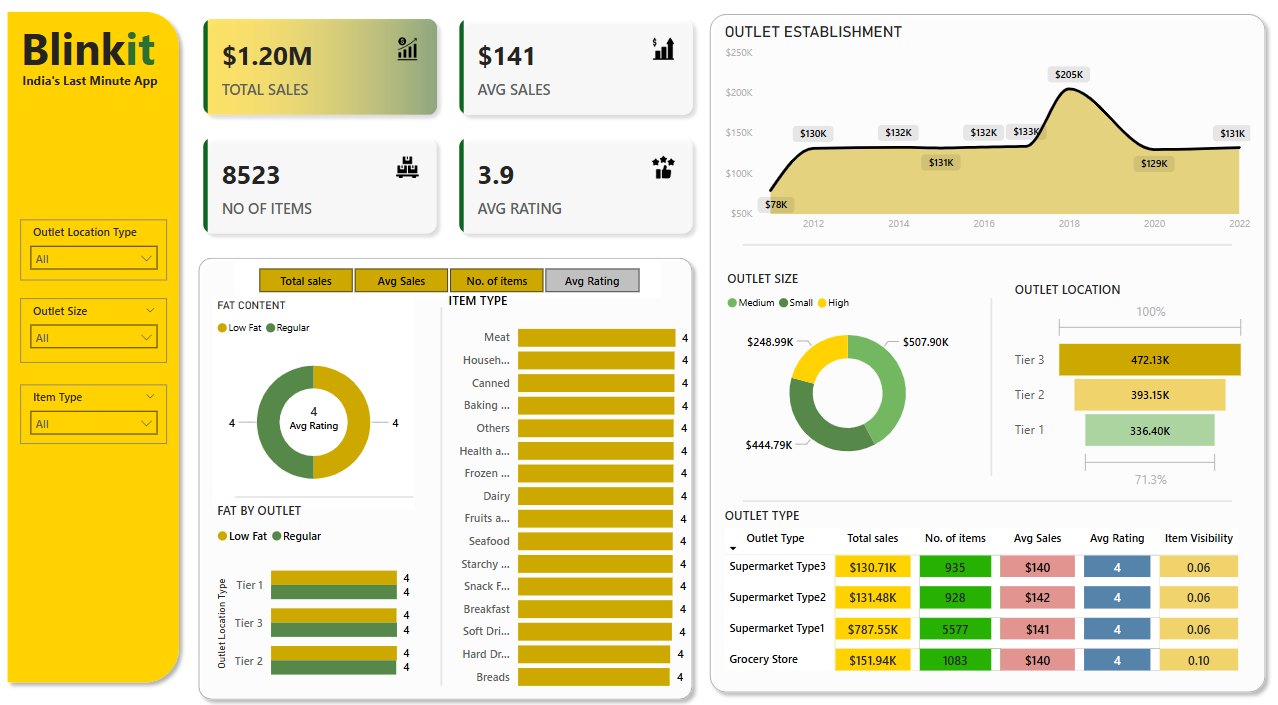

The page's visual inventory and layout, read from the dashboard file:
{"tool":"powerbi","page":{"name":"Page 1","canvas":[1400,800],"ordinal":0},"visuals":[{"type":"shape","box":[0,17.1,205.3,750],"z":0},{"type":"textbox","box":[14.5,28.9,176.3,73.7],"z":1000},{"type":"textbox","box":[21.1,86.8,169.7,30.3],"z":2000},{"type":"cardVisual","fields":{"Data":["BlinkIT Grocery Data.Total sales","BlinkIT Grocery Data.Avg Sales","BlinkIT Grocery Data.No. of items","BlinkIT Grocery Data.Avg Rating"]},"box":[205.3,17.1,569.7,269.7],"z":3000},{"type":"shape","box":[209.2,286.8,556.6,500],"z":4000},{"type":"donutChart","title":"FAT CONTENT","fields":{"Y":["BlinkIT Grocery Data.Avg Rating"],"Category":["BlinkIT Grocery Data.Item Fat Content"]},"box":[233.3,340,220,230],"z":5000},{"type":"cardVisual","fields":{"Data":["BlinkIT Grocery Data.Avg Rating"]},"box":[290,436.7,106.7,61.7],"z":6000},{"type":"slicer","fields":{"Values":["Metrics.Metrics"]},"box":[257.9,300,464.5,39.5],"z":7000},{"type":"clusteredBarChart","title":"FAT BY OUTLET ","fields":{"Y":["BlinkIT Grocery Data.Avg Rating"],"Category":["BlinkIT Grocery Data.Outlet Location Type"],"Series":["BlinkIT Grocery Data.Item Fat Content"]},"box":[233.3,561.7,220,211.7],"z":8000},{"type":"shape","box":[257.9,539.5,194.7,32.9],"z":9000},{"type":"shape","box":[460.5,348.7,43.4,413.2],"z":10000},{"type":"barChart","title":"ITEM TYPE","fields":{"Y":["BlinkIT Grocery Data.Avg Rating"],"Category":["BlinkIT Grocery Data.Item Type"]},"box":[485,333.3,271.7,445],"z":11000},{"type":"shape","box":[766,20,624,758],"z":12000},{"type":"lineChart","title":"OUTLET ESTABLISHMENT","fields":{"Category":["BlinkIT Grocery Data.Outlet Establishment Year"],"Y":["BlinkIT Grocery Data.Total sales"]},"box":[786.7,38.3,583.3,236.7],"z":13000},{"type":"shape","box":[811.7,275,533.3,11.7],"z":14000},{"type":"donutChart","title":"OUTLET SIZE","fields":{"Y":["BlinkIT Grocery Data.Total sales"],"Category":["BlinkIT Grocery Data.Outlet Size"]},"box":[790,308.3,273.3,225],"z":15000},{"type":"shape","box":[1060,340,43.3,193.3],"z":16000},{"type":"funnel","title":"OUTLET LOCATION","fields":{"Category":["BlinkIT Grocery Data.Outlet Location Type"],"Y":["Sum(BlinkIT Grocery Data.Sales)"]},"box":[1103.3,320,261.7,231.7],"z":17000},{"type":"shape","box":[811.7,555,533.3,11.7],"z":18000},{"type":"pivotTable","title":"OUTLET TYPE","fields":{"Rows":["BlinkIT Grocery Data.Outlet Type"],"Values":["BlinkIT Grocery Data.Total sales","BlinkIT Grocery Data.No. of items","BlinkIT Grocery Data.Avg Sales","BlinkIT Grocery Data.Avg Rating","Avg(BlinkIT Grocery Data.Item Visibility)"]},"box":[786.7,566.7,583.3,196.7],"z":19000},{"type":"slicer","fields":{"Values":["BlinkIT Grocery Data.Outlet Location Type"]},"box":[23.3,253.3,160,66.7],"z":20000},{"type":"slicer","fields":{"Values":["BlinkIT Grocery Data.Outlet Size"]},"box":[23.3,340,160,70],"z":21000},{"type":"slicer","fields":{"Values":["BlinkIT Grocery Data.Item Type"]},"box":[23.3,433.3,160,65],"z":22000}]}

Visuals, with their boxes on the page's 1400x800 design canvas (x1, y1, x2, y2). These are canvas units, not pixel positions in the 1278x705 screenshot, which may show the page scaled, cropped or inside an application window:
shape: bbox(0, 17, 205, 767)
textbox: bbox(14, 29, 191, 103)
textbox: bbox(21, 87, 191, 117)
cardVisual - BlinkIT Grocery Data.Total sales x BlinkIT Grocery Data.Avg Sales: bbox(205, 17, 775, 287)
shape: bbox(209, 287, 766, 787)
"FAT CONTENT" donutChart: bbox(233, 340, 453, 570)
cardVisual - BlinkIT Grocery Data.Avg Rating: bbox(290, 437, 397, 498)
slicer - Metrics.Metrics: bbox(258, 300, 722, 340)
"FAT BY OUTLET " clusteredBarChart: bbox(233, 562, 453, 773)
shape: bbox(258, 540, 453, 572)
shape: bbox(460, 349, 504, 762)
"ITEM TYPE" barChart: bbox(485, 333, 757, 778)
shape: bbox(766, 20, 1390, 778)
"OUTLET ESTABLISHMENT" lineChart: bbox(787, 38, 1370, 275)
shape: bbox(812, 275, 1345, 287)
"OUTLET SIZE" donutChart: bbox(790, 308, 1063, 533)
shape: bbox(1060, 340, 1103, 533)
"OUTLET LOCATION" funnel: bbox(1103, 320, 1365, 552)
shape: bbox(812, 555, 1345, 567)
"OUTLET TYPE" pivotTable: bbox(787, 567, 1370, 763)
slicer - BlinkIT Grocery Data.Outlet Location Type: bbox(23, 253, 183, 320)
slicer - BlinkIT Grocery Data.Outlet Size: bbox(23, 340, 183, 410)
slicer - BlinkIT Grocery Data.Item Type: bbox(23, 433, 183, 498)
